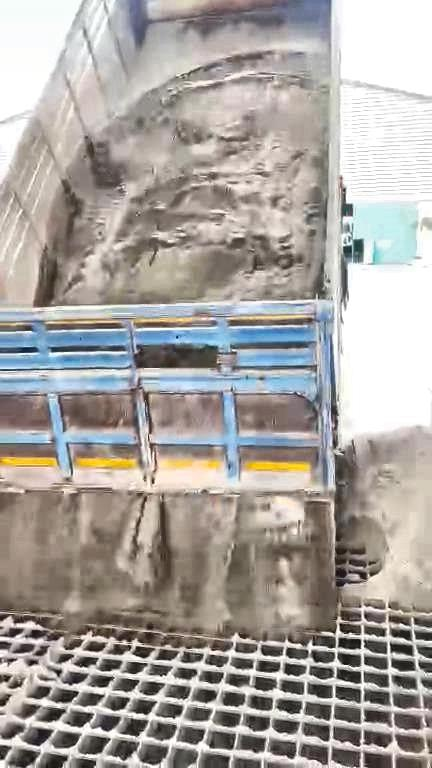sand: (39, 52, 328, 303), (1, 492, 334, 638), (338, 427, 432, 609)
